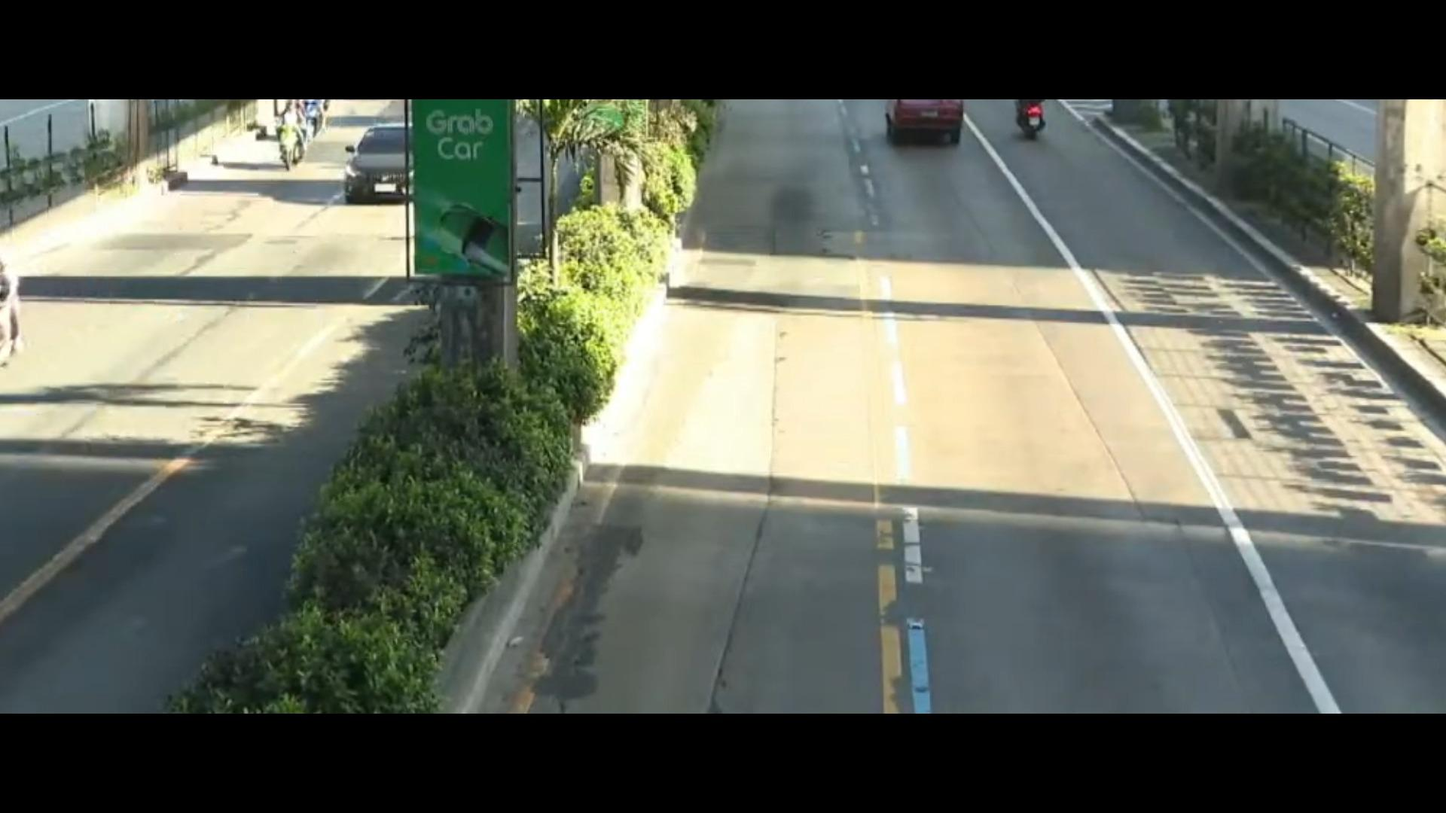Motorcycle: (256, 109, 304, 187), (1000, 99, 1054, 147), (304, 94, 341, 139)
SUV: (878, 101, 970, 158)
Sedan: (343, 121, 411, 212)
